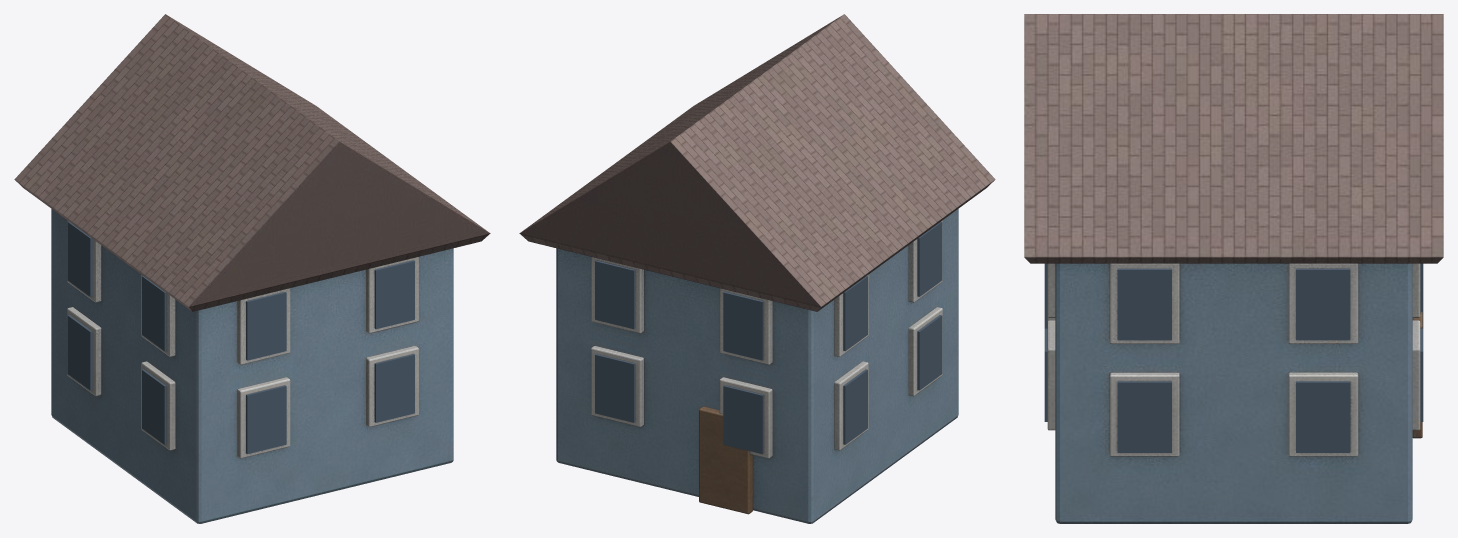
The model's file is reihe_scifi.glb.
3 views of the same model, side by side, from view 1: azimuth 30°, elevation 25°; view 2: azimuth 150°, elevation 25°; view 3: azimuth 270°, elevation 25° (orthographic). The views are drawn at different scales.
Visible parts, largest first — view 1: reihe_scifi, reihe_scifi_details; view 2: reihe_scifi, reihe_scifi_details; view 3: reihe_scifi, reihe_scifi_details.
Part boxes in pixels (x1=…): reihe_scifi: x1=14, y1=14, x2=490, y2=523; reihe_scifi_details: x1=67, y1=221, x2=414, y2=453; reihe_scifi: x1=519, y1=14, x2=995, y2=523; reihe_scifi_details: x1=595, y1=221, x2=942, y2=453; reihe_scifi: x1=1024, y1=14, x2=1443, y2=523; reihe_scifi_details: x1=1044, y1=263, x2=1423, y2=452.
Bounding box in the file's own units: 0.54 × 0.62 × 0.54.
Materials: 2 (1 with a texture image).
